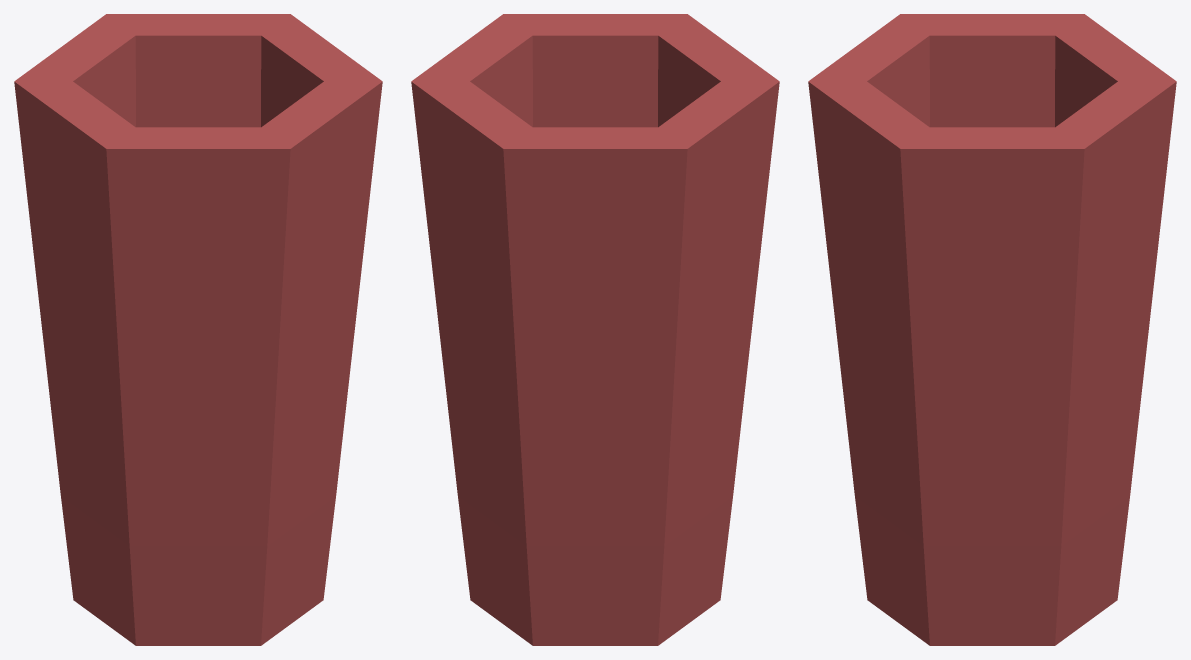
Rendered from CupRed.fbx.
The picture shows the model from 3 angles, left to right: view 1: azimuth 30°, elevation 25°; view 2: azimuth 150°, elevation 25°; view 3: azimuth 270°, elevation 25°; orthographic projection.
Parts seen in each view (by area): view 1: CupRed; view 2: CupRed; view 3: CupRed.
Part boxes in pixels (x1=…): CupRed: x1=14, y1=14, x2=382, y2=645; CupRed: x1=411, y1=14, x2=779, y2=645; CupRed: x1=808, y1=14, x2=1176, y2=645.
Size of the model in its own units: 0.1064 by 0.1908 by 0.1229.
